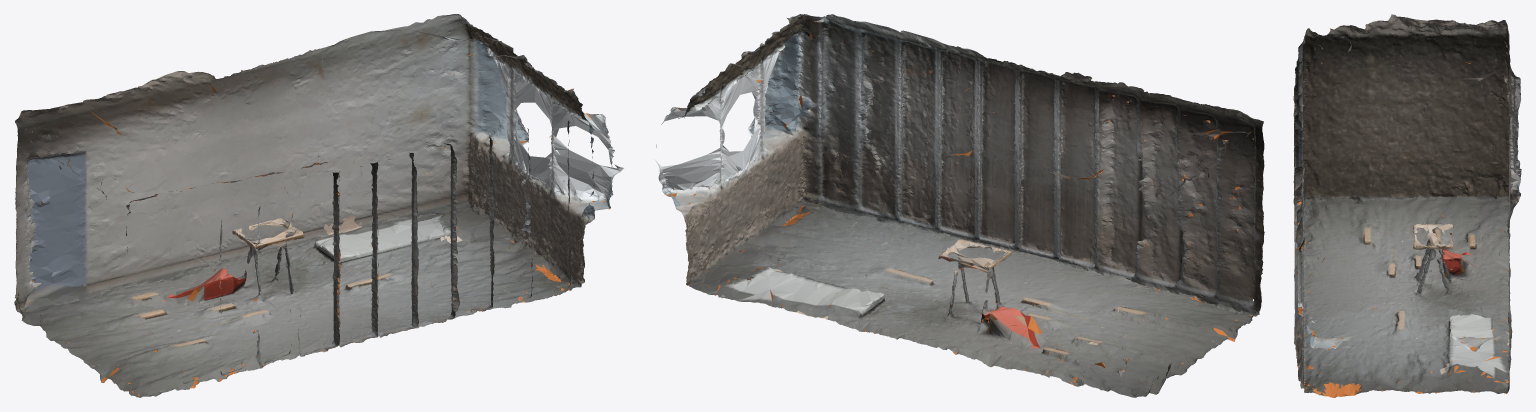
3 renders of one model, left to right at view 1: azimuth 30°, elevation 25°; view 2: azimuth 150°, elevation 25°; view 3: azimuth 270°, elevation 25°, orthographic. The views are drawn at different scales.
Parts seen in each view (by area): view 1: textured.obj; view 2: textured.obj; view 3: textured.obj.
Boxes of the visible parts, x1,y1,x2,y2 form: textured.obj: (14,14,623,397); textured.obj: (654,14,1264,397); textured.obj: (1293,14,1521,397).
Bounding box in the file's own units: 8.12 × 3.19 × 3.54.
Materials: 1 (1 with a texture image).
